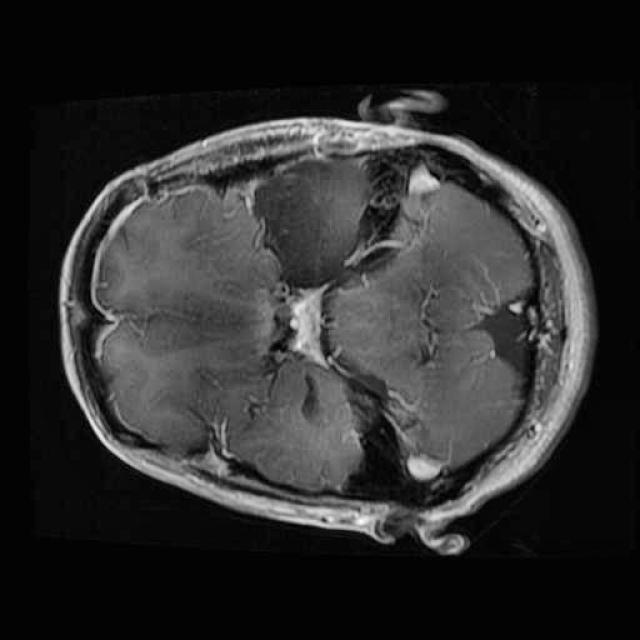Non-Tumor: (239, 139, 388, 301)
